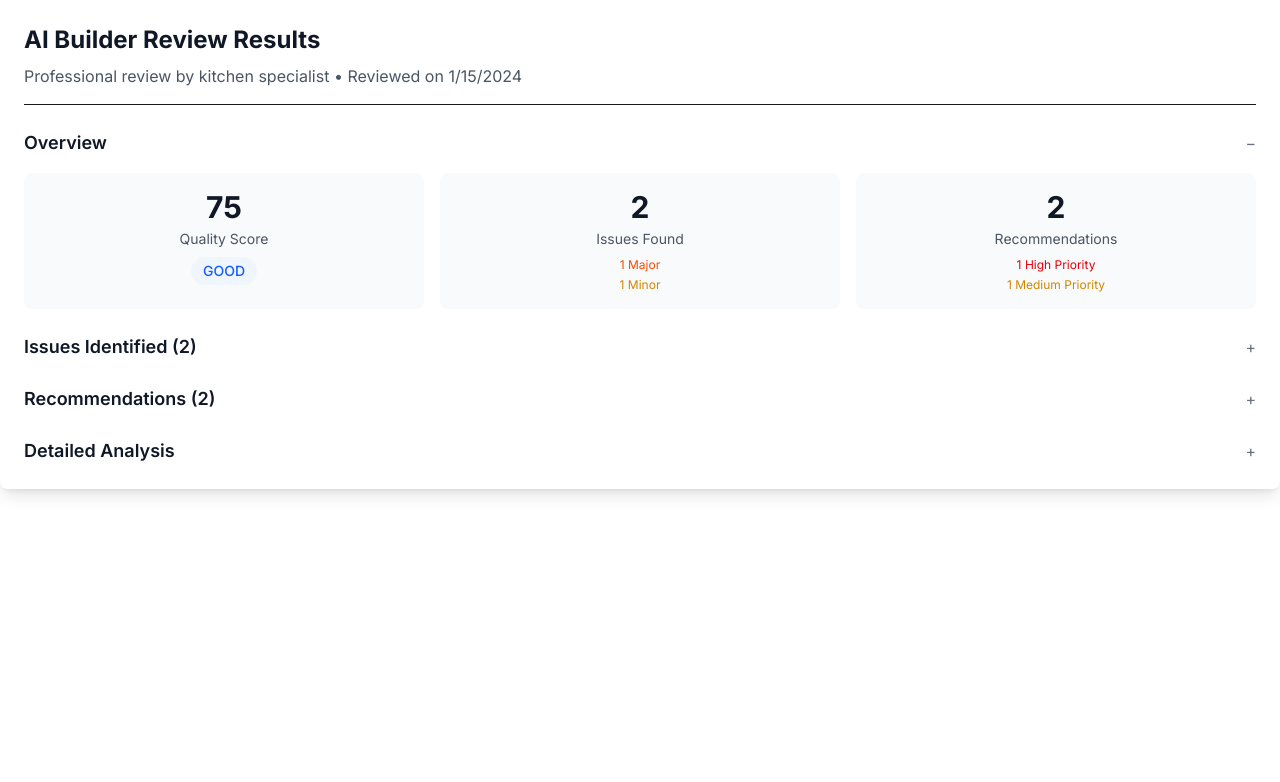
BuilderReviewDisplay › should display recommendations with priority indicators
# Expand recommendations section
Click the heading "Recommendations (2)".
click(120, 399)  # box [24,385,215,413]
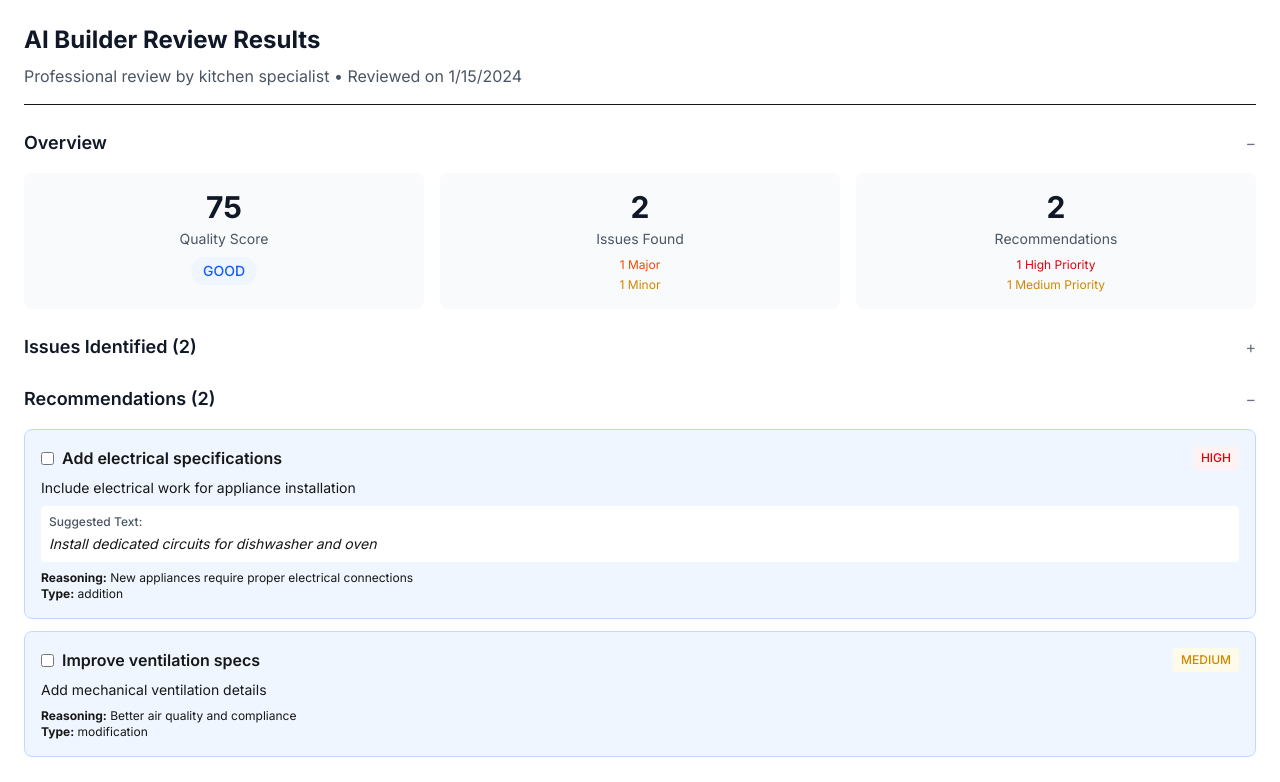
Expected: the text "Add electrical specifications" is shown, [62,446,282,470]
Expected: the text "HIGH" is shown, [1193,446,1239,470]
Expected: the text "Improve ventilation specs" is shown, [62,648,260,672]
